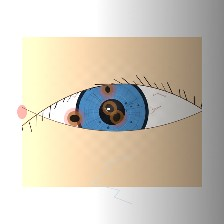foreign_body_visible: (91, 76, 124, 103)
